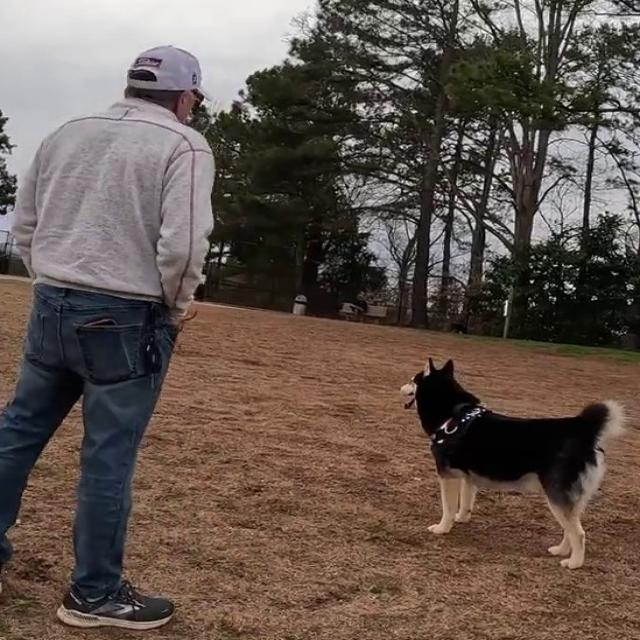Unleashed_Dog: (73, 289, 625, 571)
